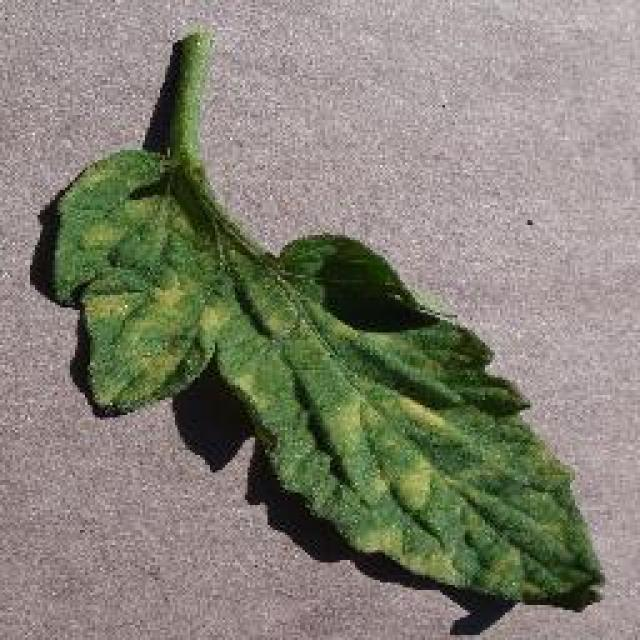Tomato___Leaf_Mold: (45, 32, 600, 605)
